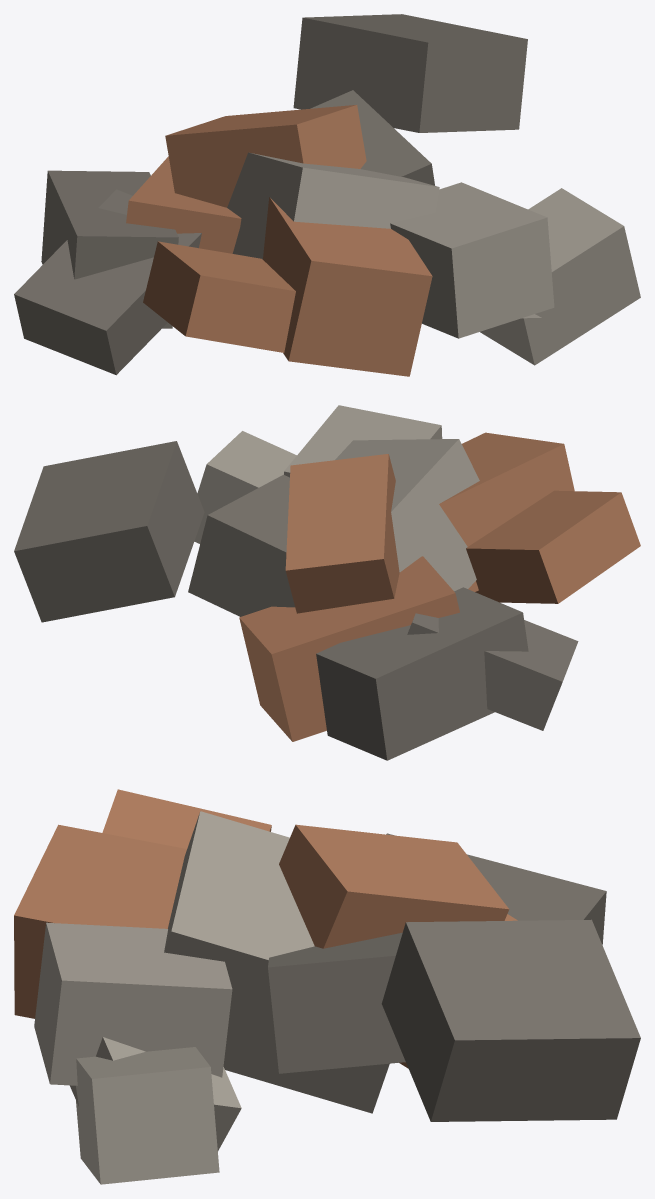
The model's file is broken_rubble.gltf.
The picture shows the model from 3 angles, top to bottom: view 1: azimuth 30°, elevation 25°; view 2: azimuth 150°, elevation 25°; view 3: azimuth 270°, elevation 25°; orthographic projection. The views are drawn at different scales.
Parts seen in each view (by area): view 1: broken_rubble; view 2: broken_rubble; view 3: broken_rubble.
Part boxes in pixels (x1,y1,x2,y2): broken_rubble: (14,14,640,376); broken_rubble: (14,405,640,760); broken_rubble: (14,789,640,1184).
Bounding box in the file's own units: 1.3 × 0.5247 × 1.12.
